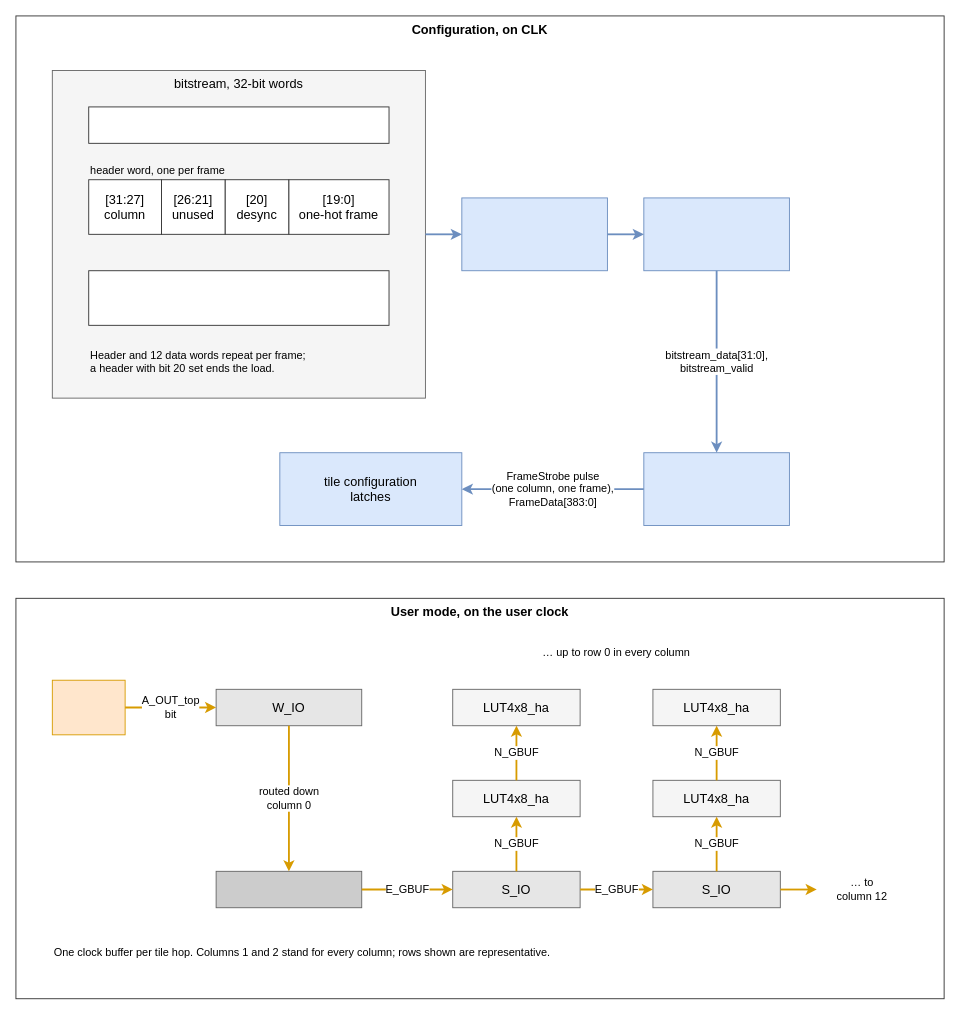
Image size: 960x1015. Some labels were removed from this diagram. The shapes that lost their labels are listed below. From the top down, each one's centre as x and y in pixels, then its label:
point (238, 124): start word 0xFAB0FAB1
point (534, 234): loader: UART, bitbang, SPI or parallel
point (716, 234): config_frontend
point (238, 297): 12 data words, row 11 first, row 0 last
point (716, 489): fabric_config
point (88, 707): user clock pad
point (288, 889): SW_term, 4 × GBUF
